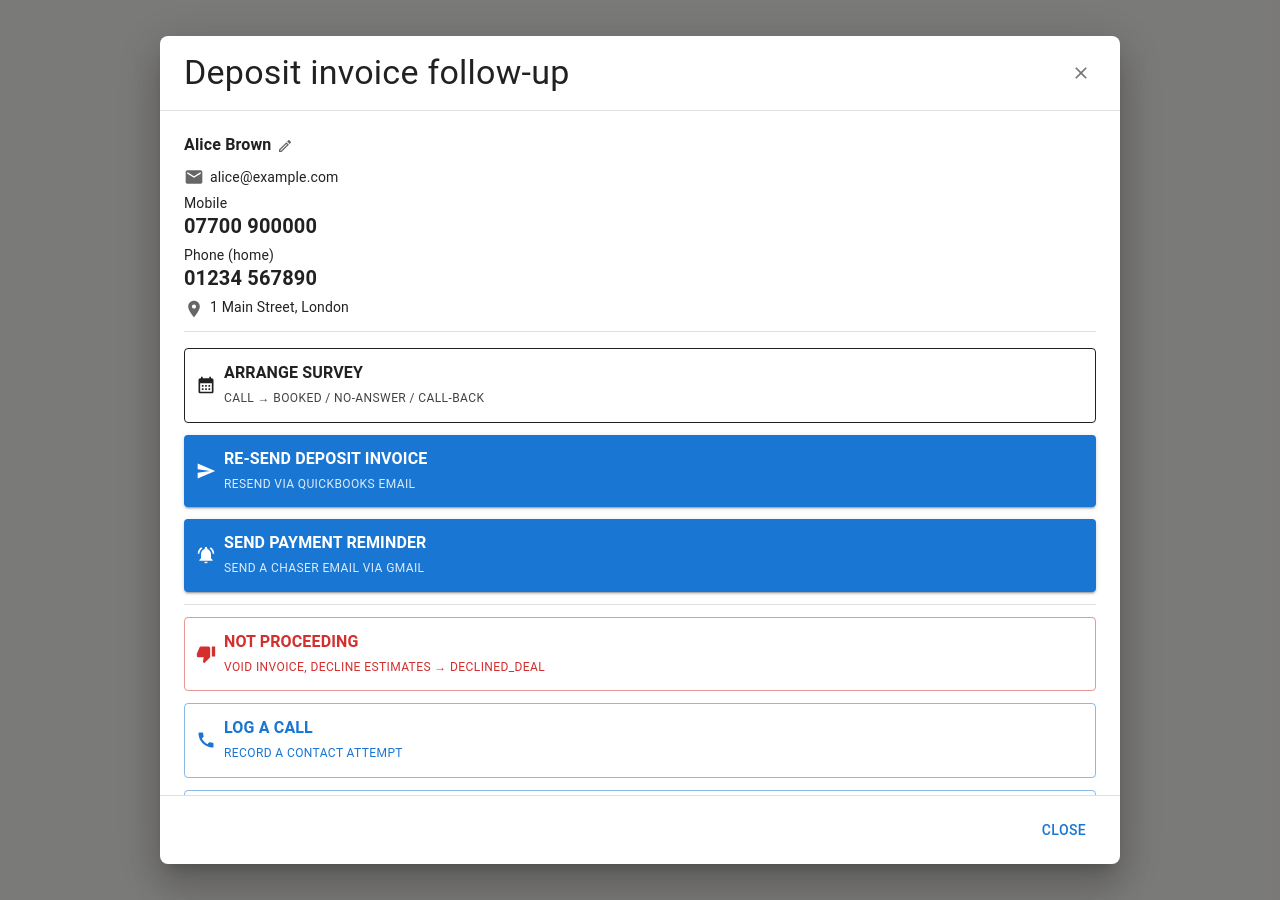
Scenario: DepositInvoiceModal — discard guard: reminder body triggers dialog › "Keep editing" dismisses the discard dialog and returns to the reminder step
This screenshot has width=1280, height=900.
Click the text "Send payment reminder" at (325, 543), box [224,531,426,555]
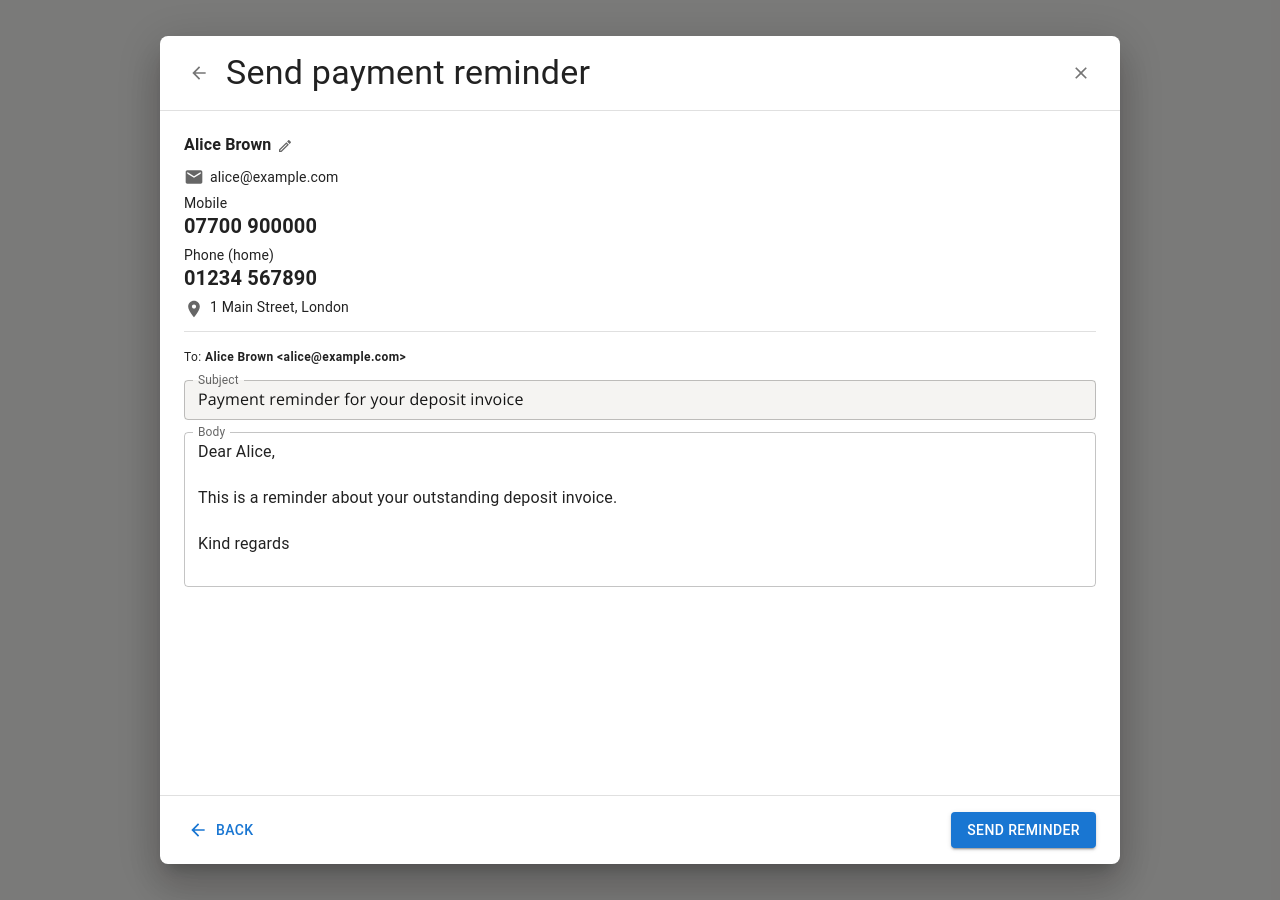
Expected: the text box labelled "Body" is not empty, [198,440,1082,578]
Click the button named "Close" at (1081, 73), box [1066,58,1096,88]
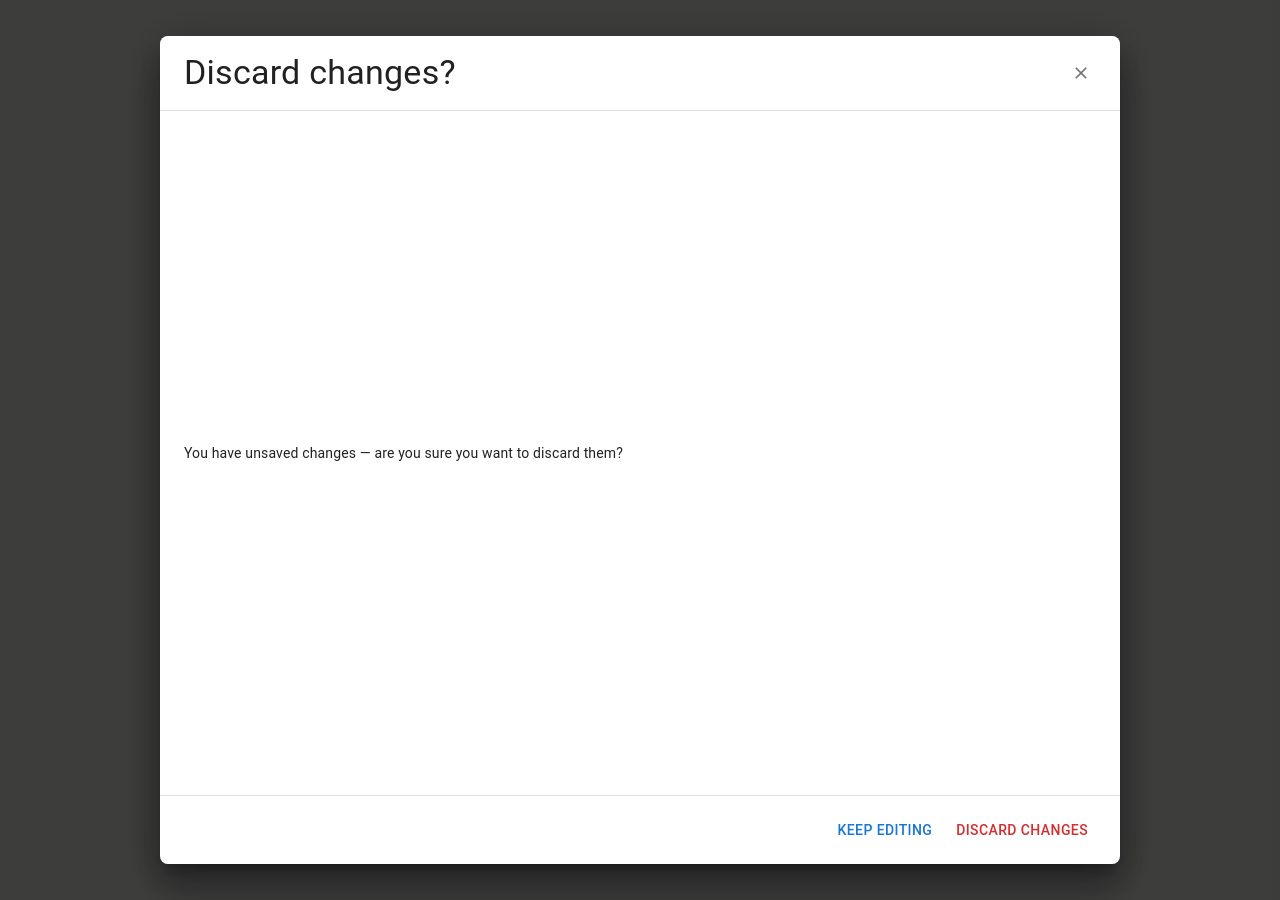
Expected: the dialog "Discard changes?" is shown
Click the button "Keep editing" at (885, 830), box [830,812,940,848]
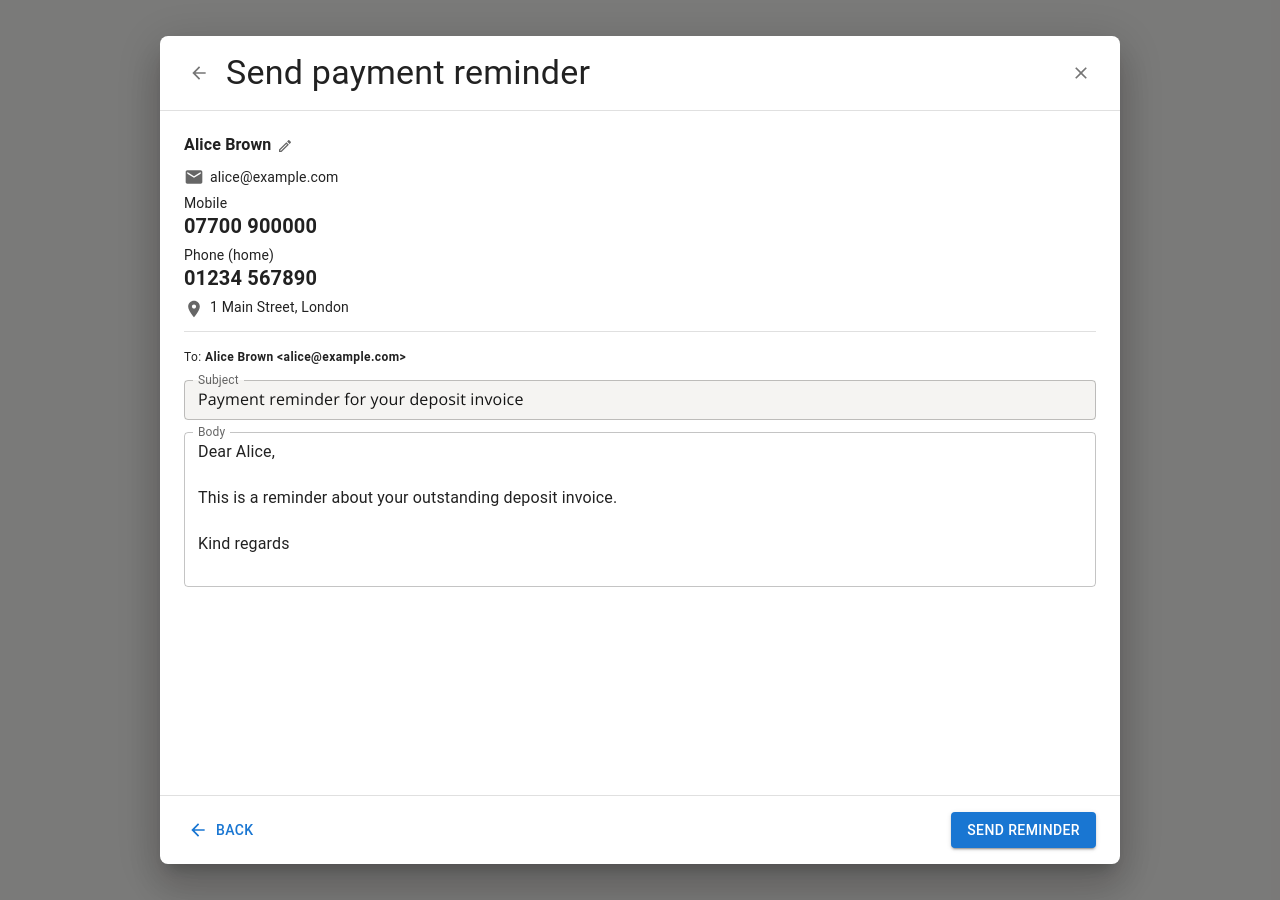
Expected: the heading "Discard changes?" is gone
